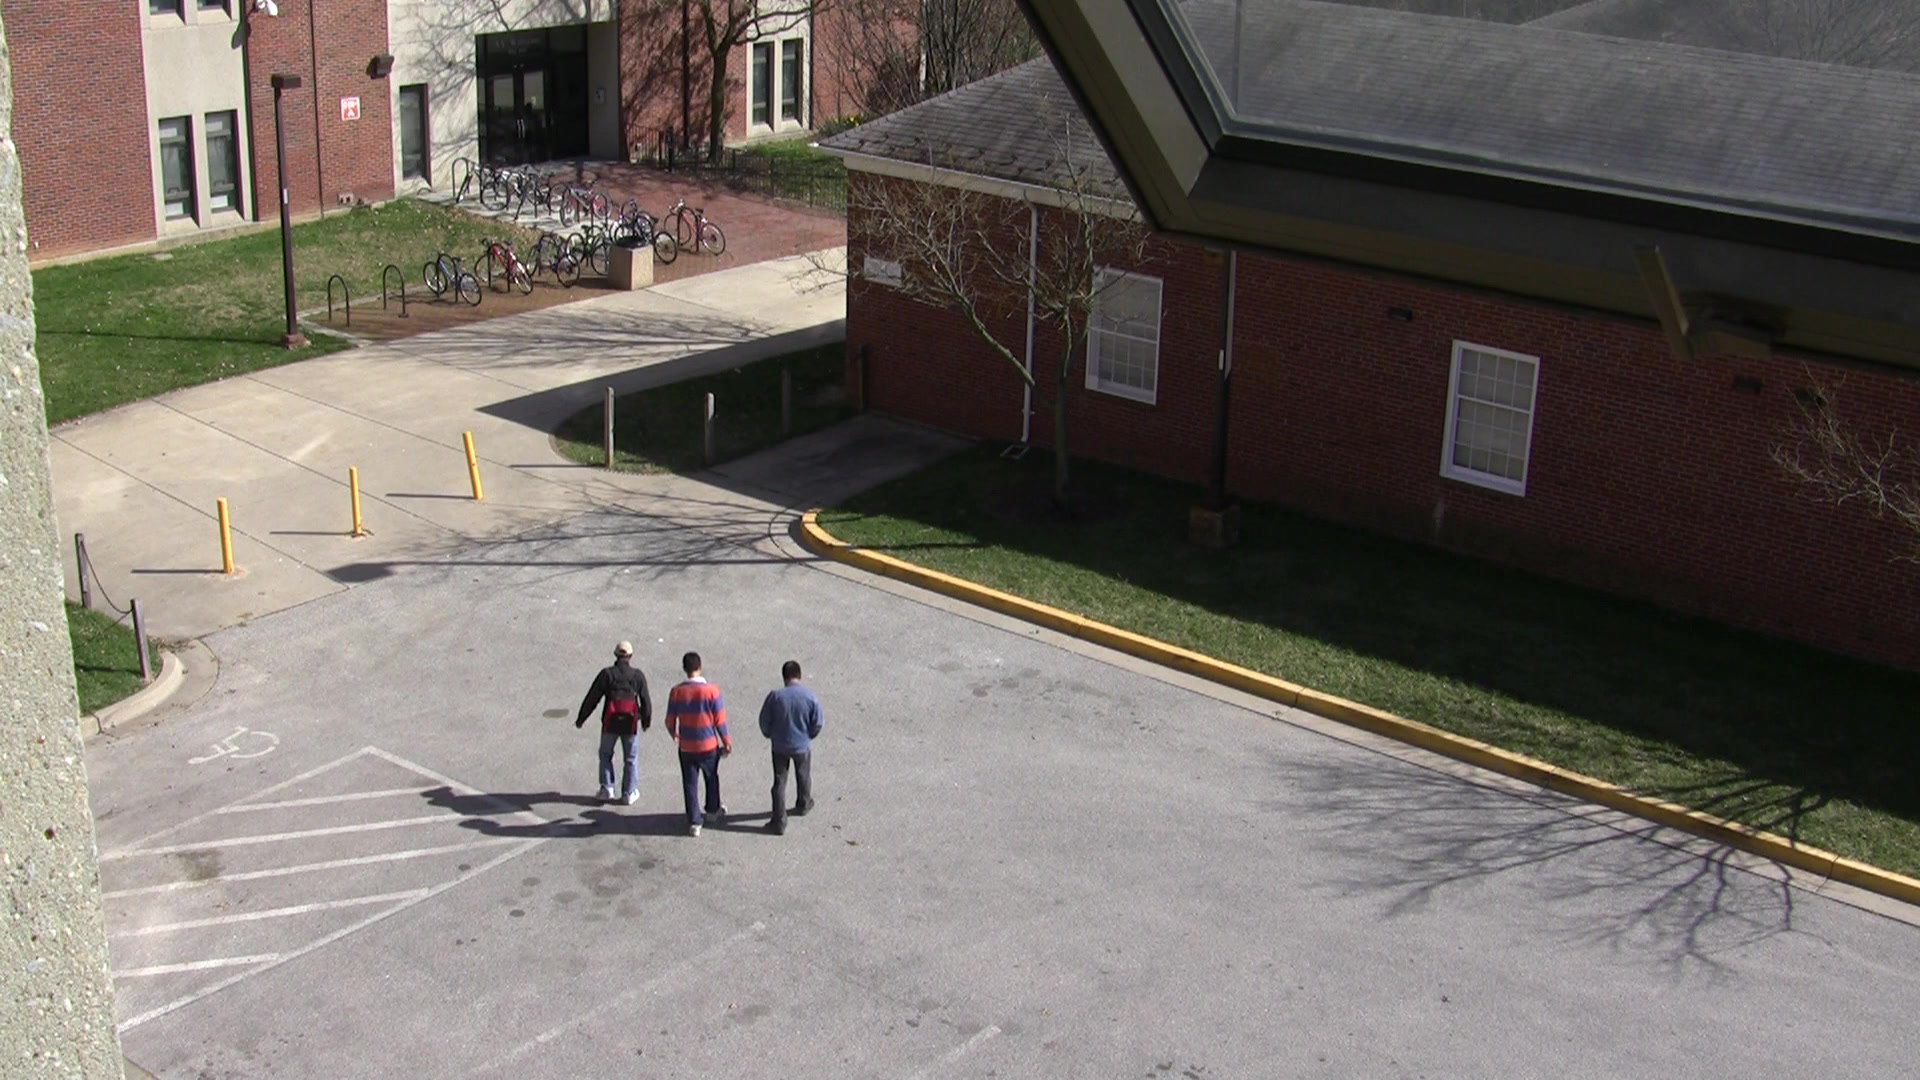person: (561, 624, 656, 816), (658, 634, 736, 840), (740, 649, 823, 841)
